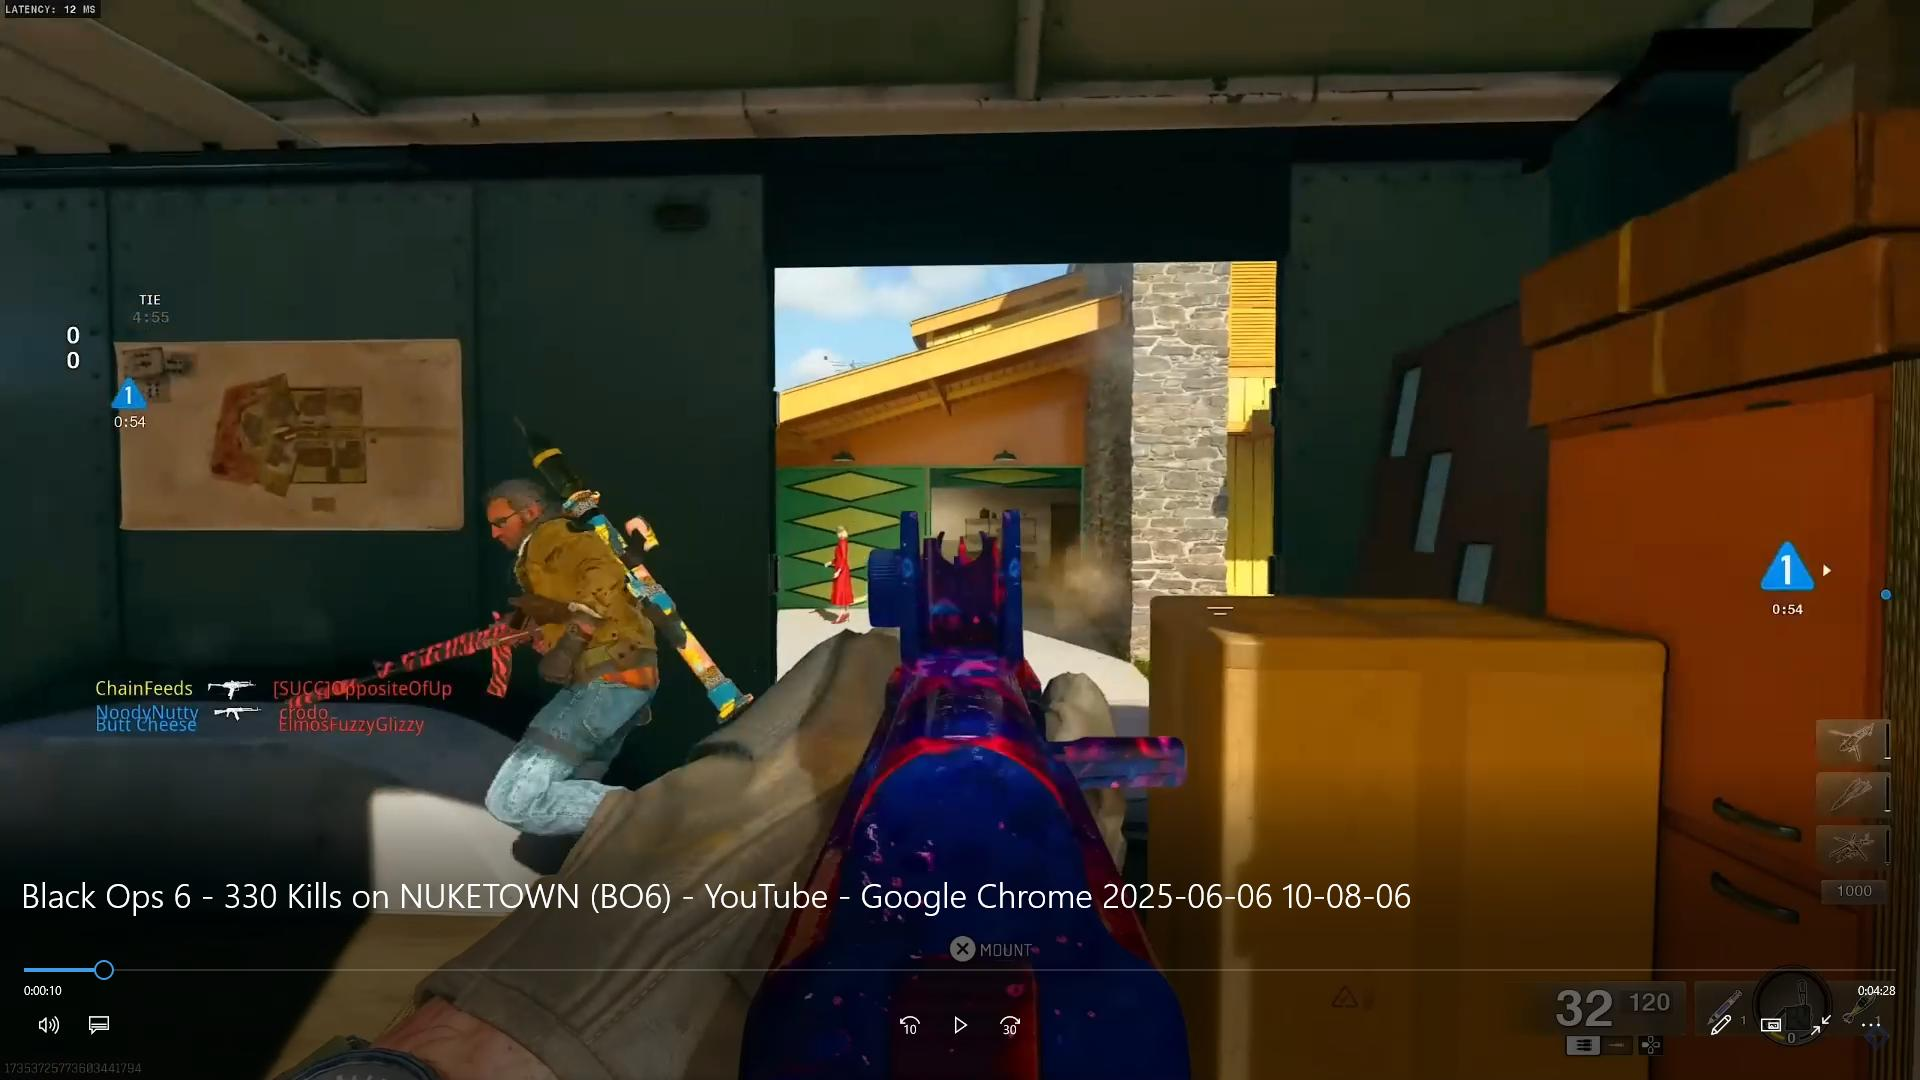Enemy: (388, 419, 713, 754)
